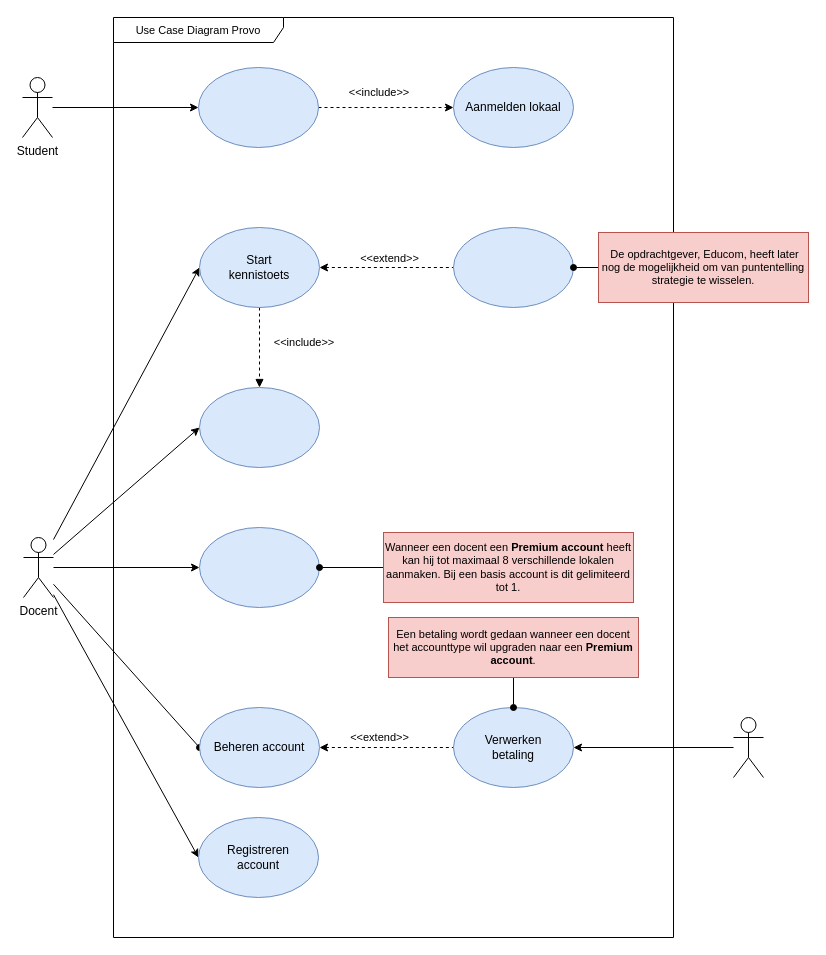
This 826x955 diagram has some shape labels left out. Each missing label, with the centre of its shape:
"Beheren lokalen" belongs at (259,567).
"Betalingsprovider" belongs at (748,747).
"Creëren kennistoets" belongs at (259,427).
"Genereren overzicht" belongs at (513,267).
"Uitvoeren kennistoets" belongs at (258,107).
